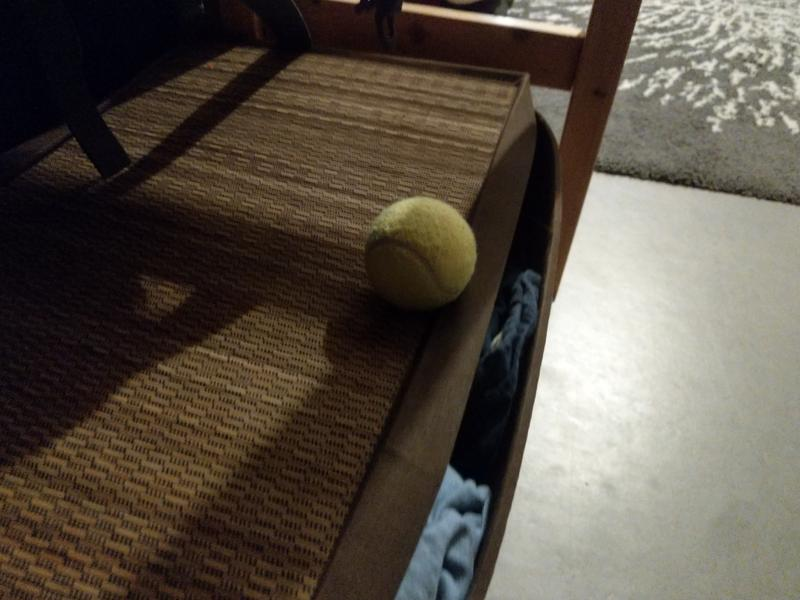Tennisball: (362, 194, 480, 315)
